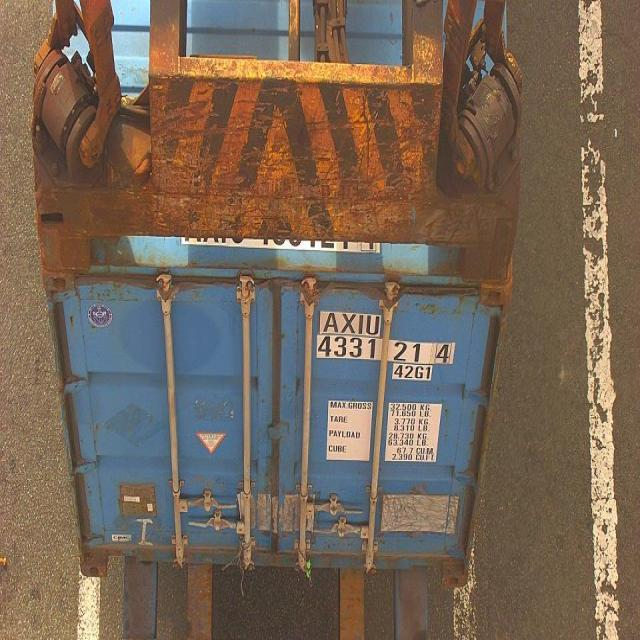ISO: (394, 361, 432, 381)
container_number: (318, 304, 453, 362)
